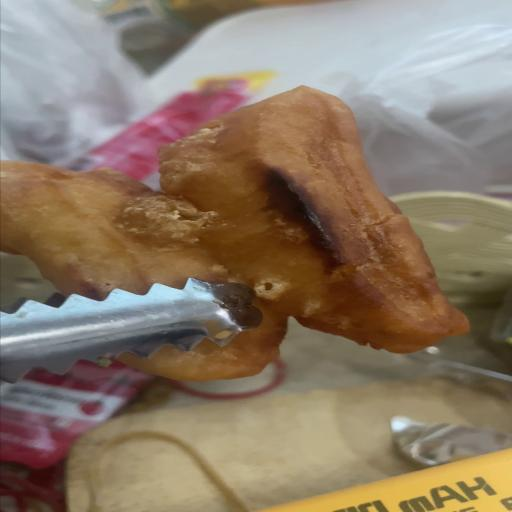street_burnt_defect: (0, 86, 468, 379)
